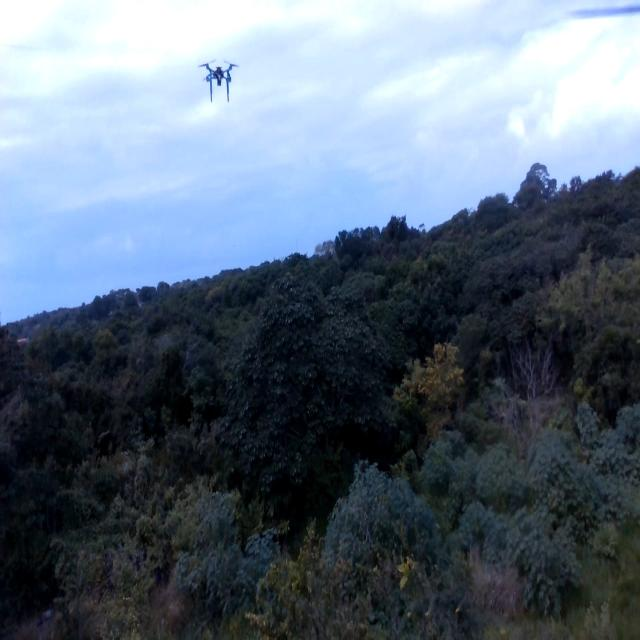-uav-: (192, 39, 245, 117)
